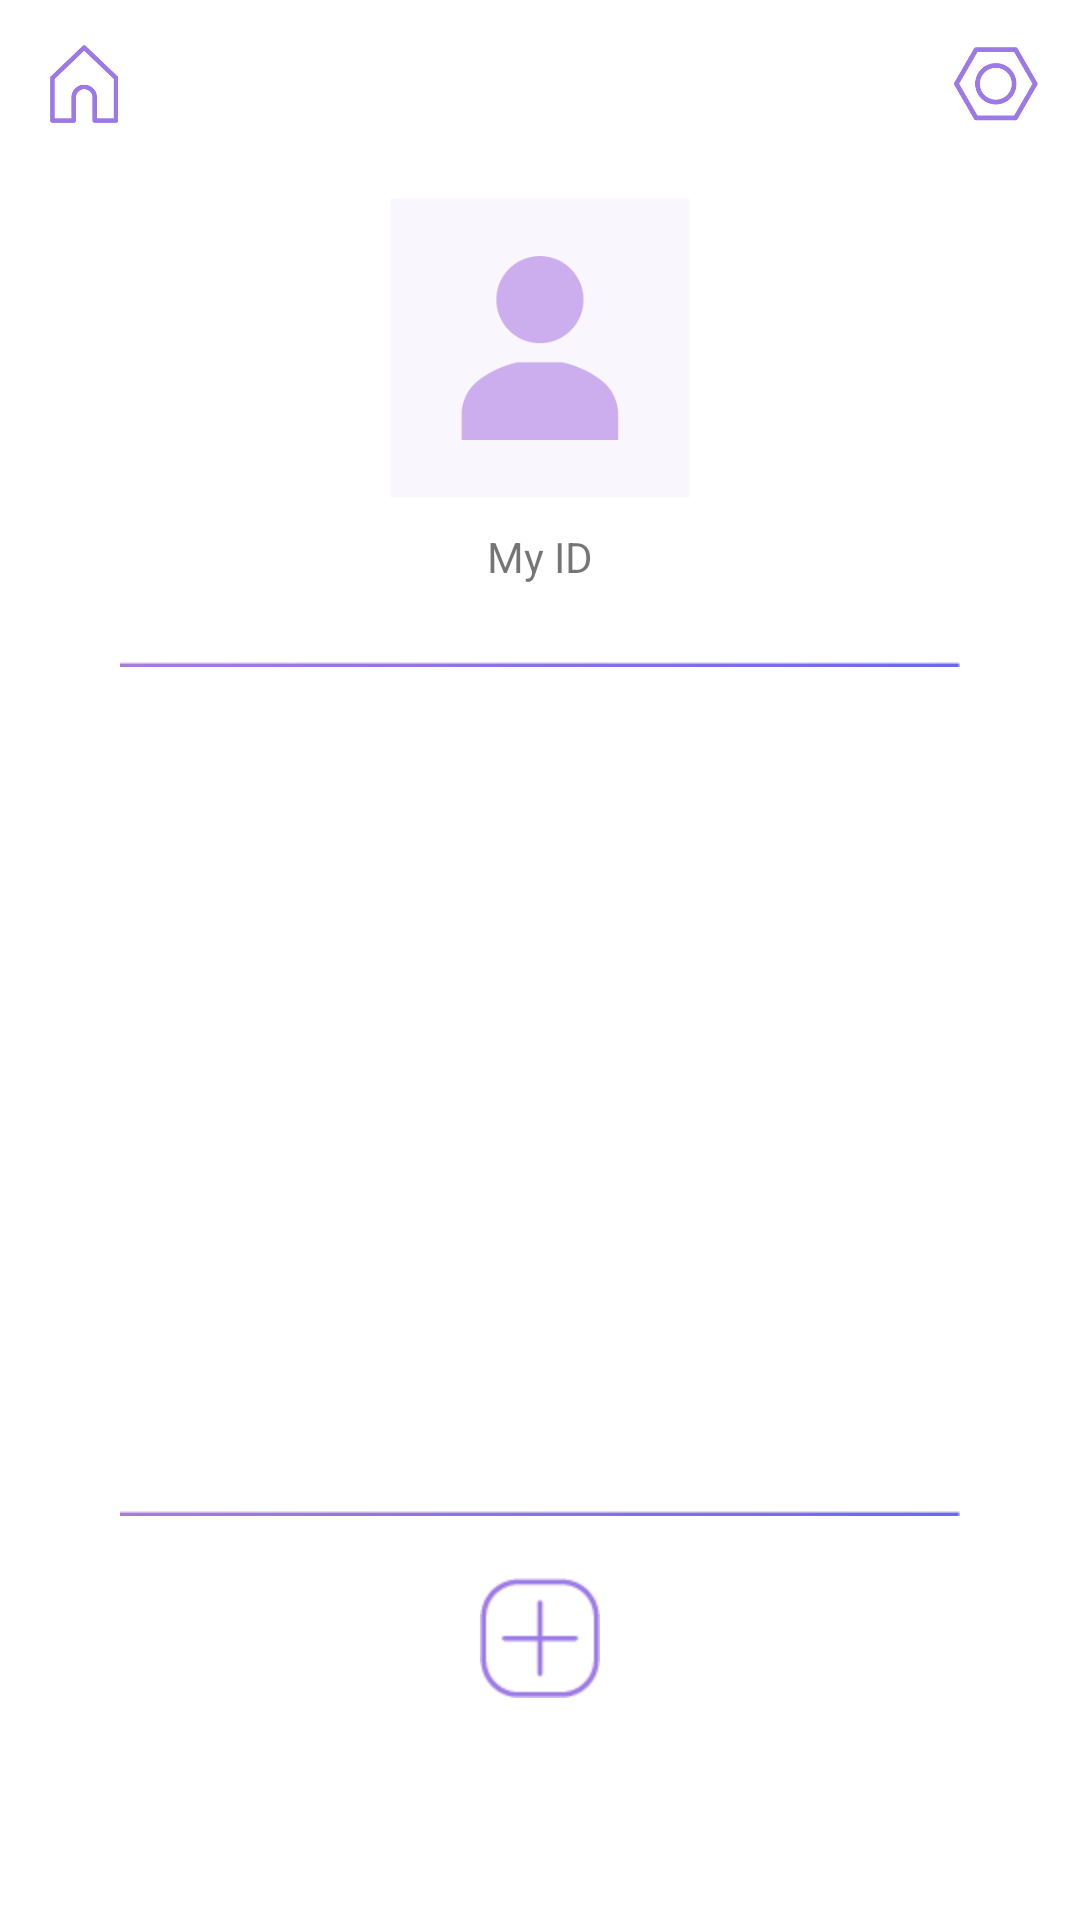

Point at icon controls on the screen. Image size 1080 × 1920, points as point (x, y).
home: point (84, 84)
plus: point (540, 1638)
